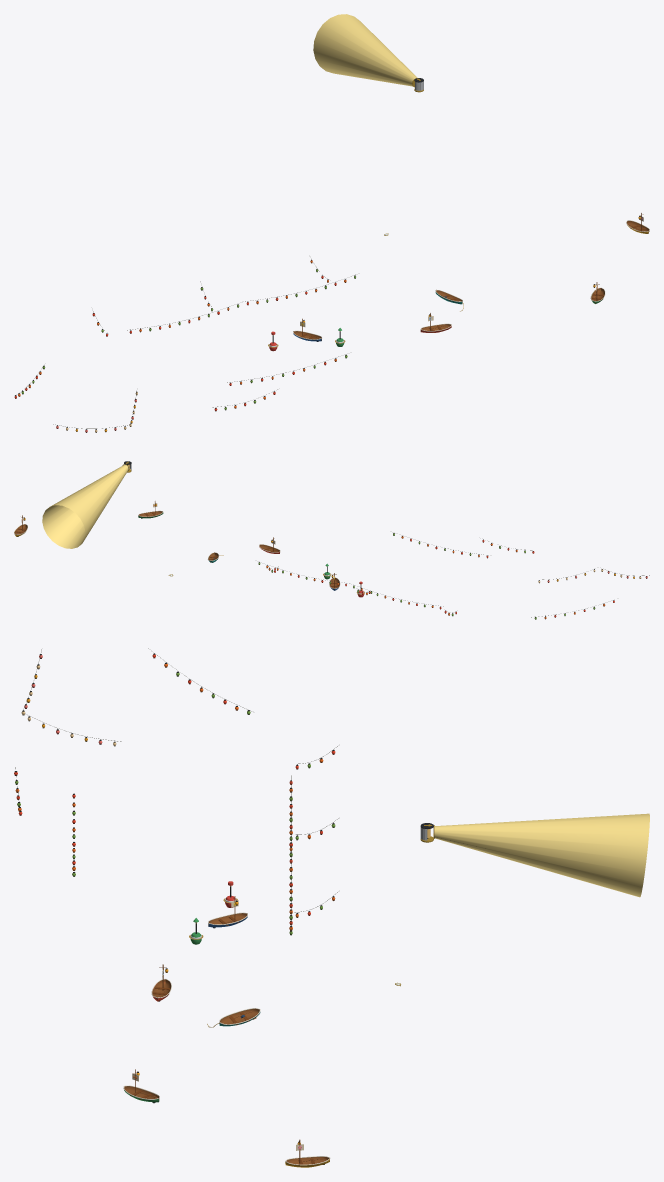
The model's file is wv3_props.glb.
The picture shows the model from 3 angles, top to bottom: view 1: azimuth 30°, elevation 25°; view 2: azimuth 150°, elevation 25°; view 3: azimuth 270°, elevation 25°; orthographic projection. The views are drawn at different scales.
Visible parts, largest first — view 1: wv3_lantern_beam, wv3_festa_lanterns; view 2: wv3_lantern_beam, wv3_festa_lanterns; view 3: wv3_lantern_beam, wv3_festa_lanterns.
Boxes of the visible parts, bbox=[...] form: wv3_lantern_beam: bbox=[313, 14, 417, 86]; wv3_festa_lanterns: bbox=[14, 259, 355, 432]; wv3_lantern_beam: bbox=[42, 465, 128, 548]; wv3_festa_lanterns: bbox=[258, 533, 649, 619]; wv3_lantern_beam: bbox=[433, 813, 649, 897]; wv3_festa_lanterns: bbox=[14, 648, 338, 935].
Size of the model in its own units: 82.37 by 19.58 by 47.89.
